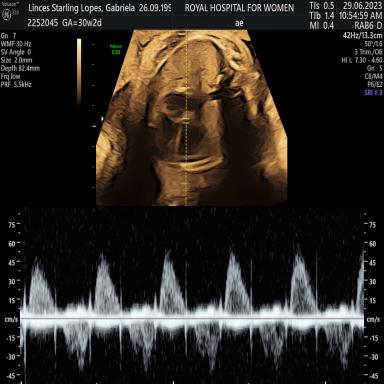Ultrasound-Waves: (28, 210, 363, 384)
